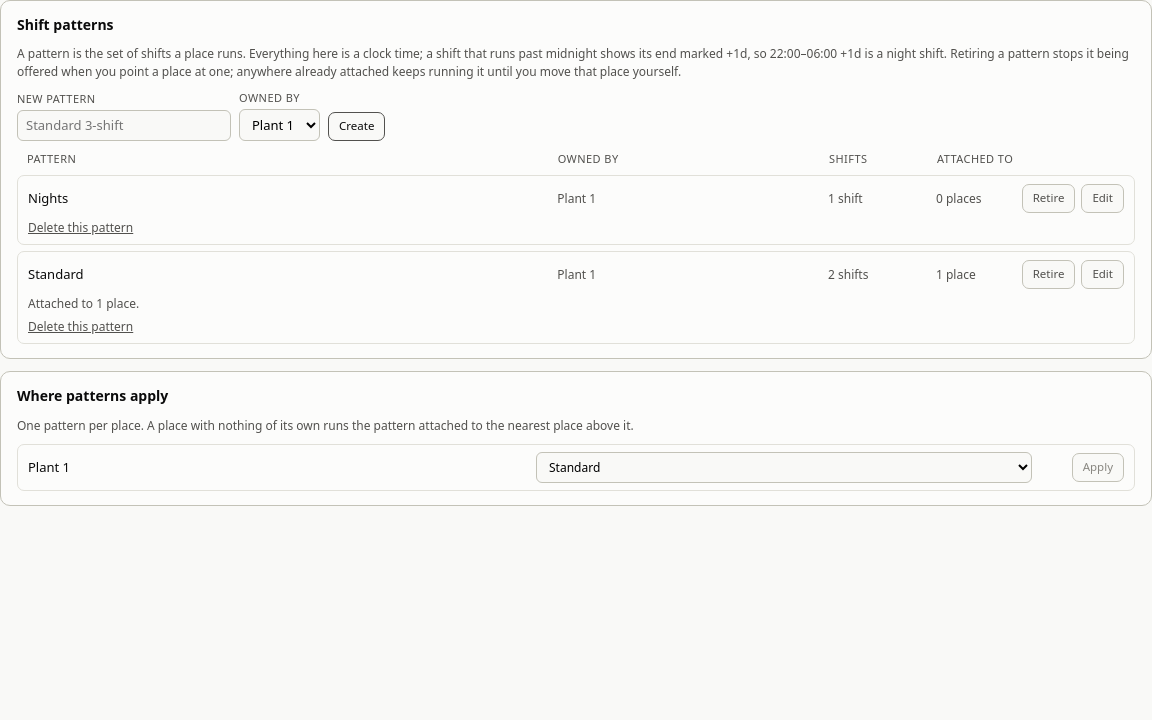
Scenario: ShiftsPanel — retiring a band that people point at (R-443) › Cancel closes the warning and writes nothing
Click the button "Edit" in the row of "Standard" at (1103, 274), box [1081,260,1124,289]
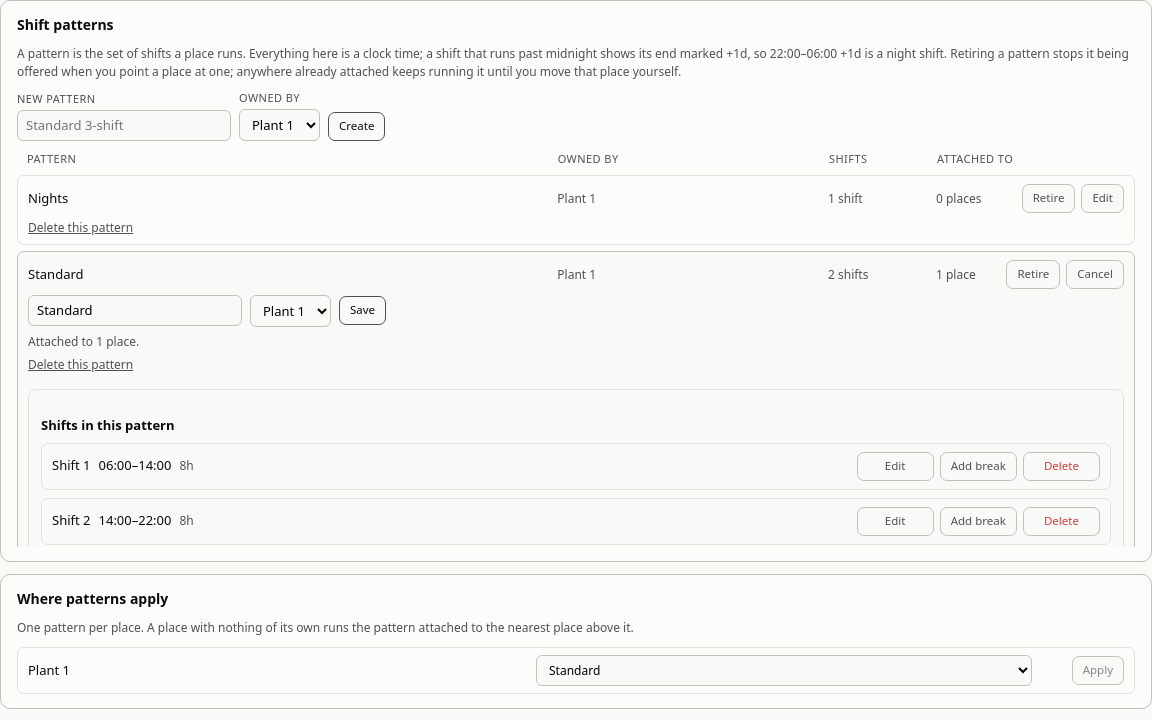
Click the button "Delete" in the row of "06:00–14:00" at (1061, 467), box [1023,452,1100,481]
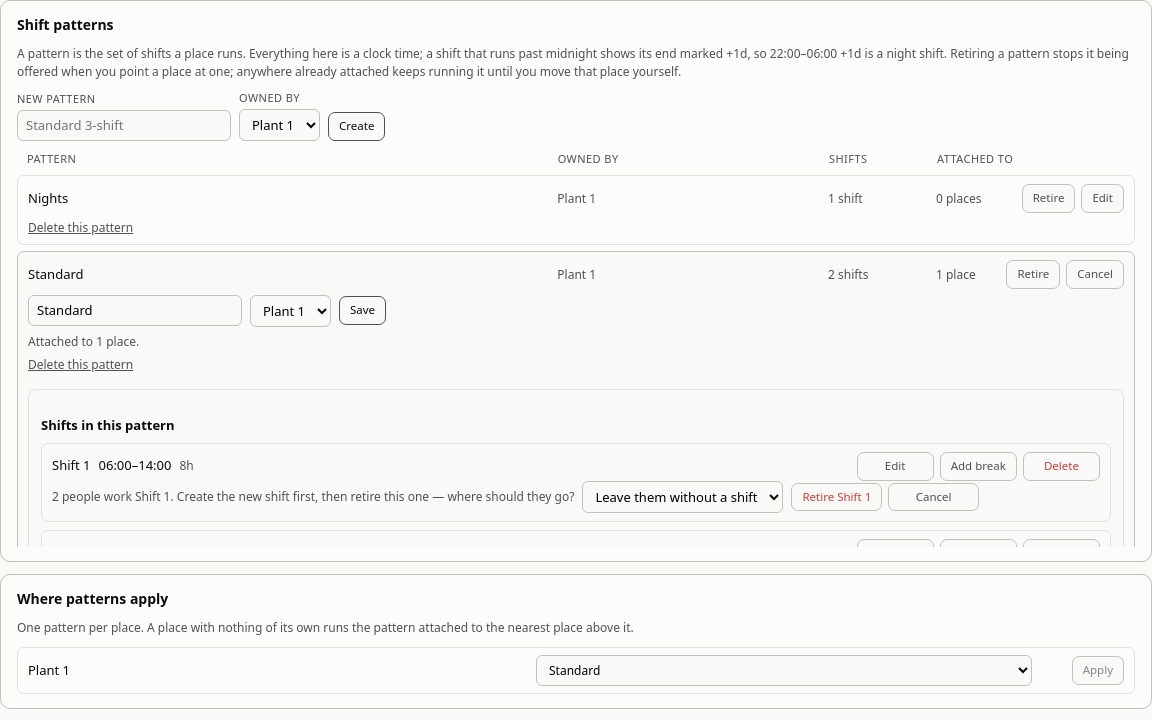
Click the button "Cancel" in the row of "2 people work Shift 1." at (934, 497), box [888,483,979,511]
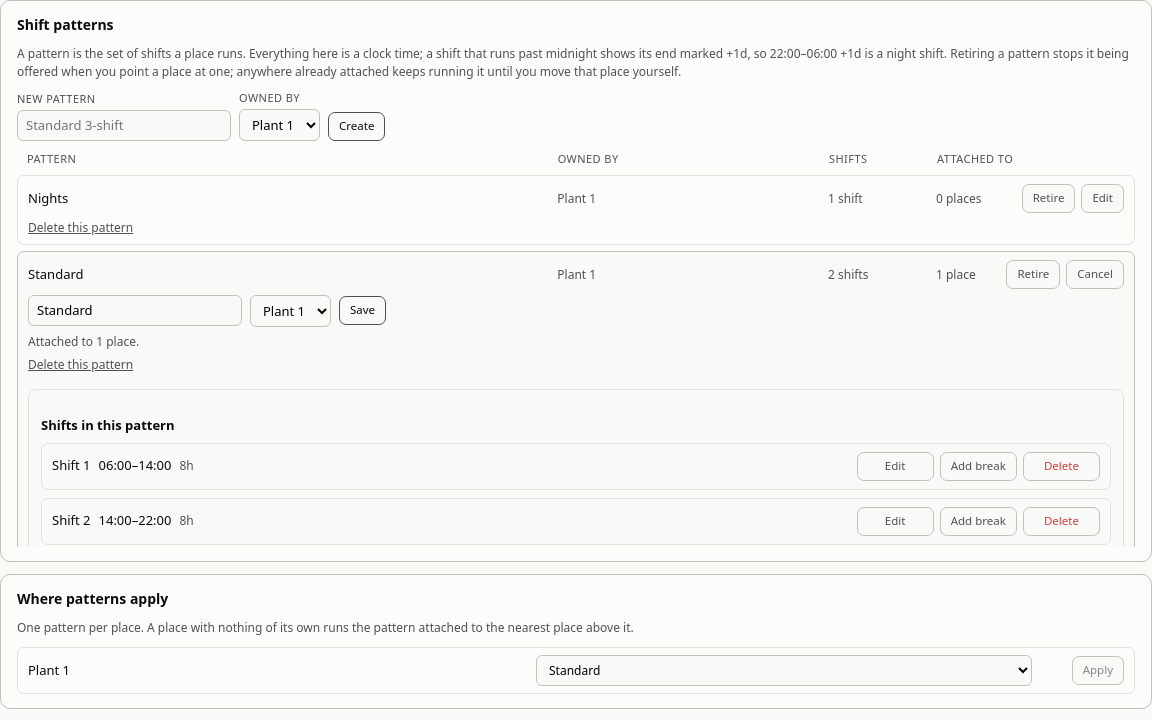
Check: the text "people work" is gone
